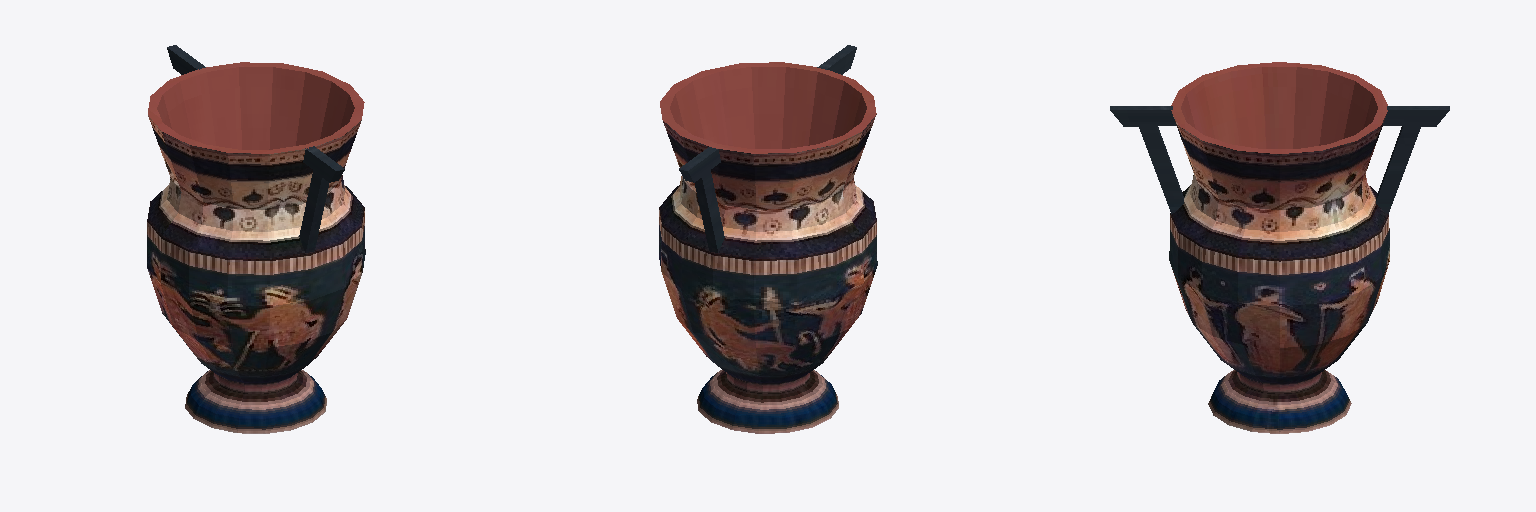
The picture shows the model from 3 angles: view 1: azimuth 30°, elevation 25°; view 2: azimuth 150°, elevation 25°; view 3: azimuth 270°, elevation 25°; orthographic projection.
Parts seen in each view (by area): view 1: vase1; view 2: vase1; view 3: vase1.
Part boxes in pixels (bbox=[...]): vase1: bbox=[147, 45, 365, 433]; vase1: bbox=[659, 45, 877, 433]; vase1: bbox=[1110, 62, 1449, 433].
Bounding box in the file's own units: 72.9 × 108 × 112.
1 materials, 1 textured.